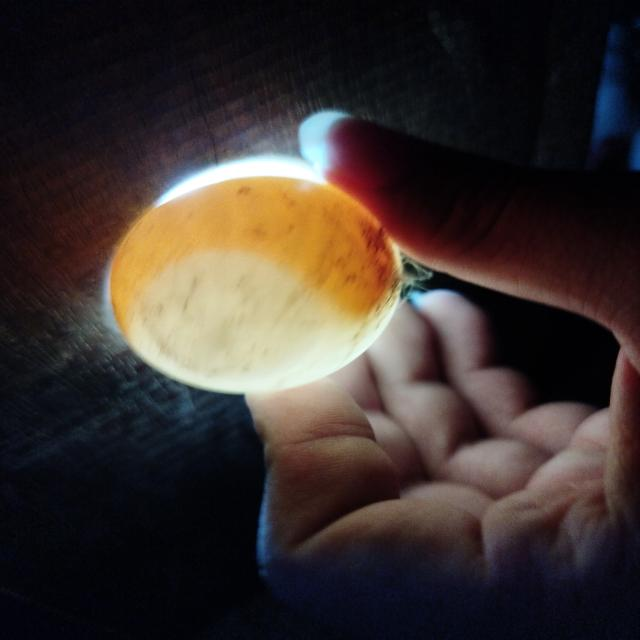Camara de Ar: (141, 256, 315, 372)
